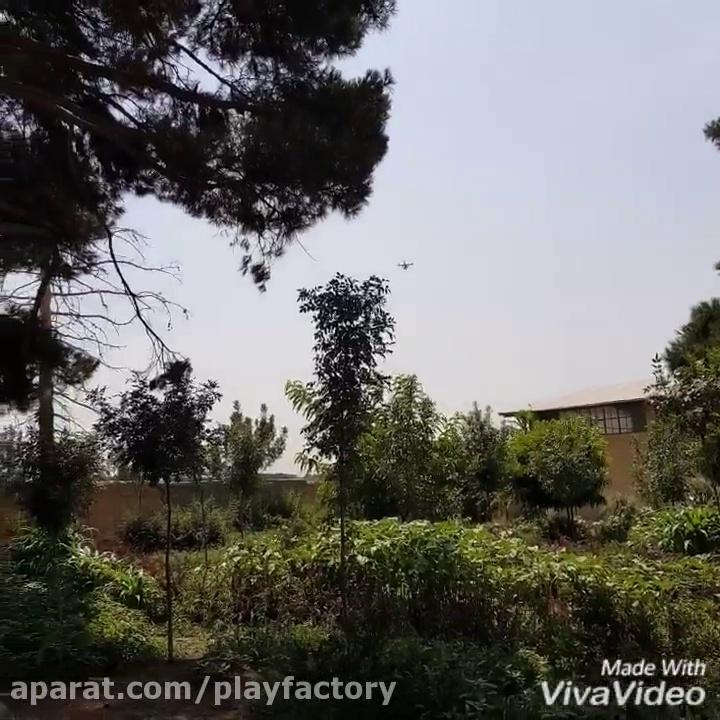drone: (396, 256, 415, 273)
